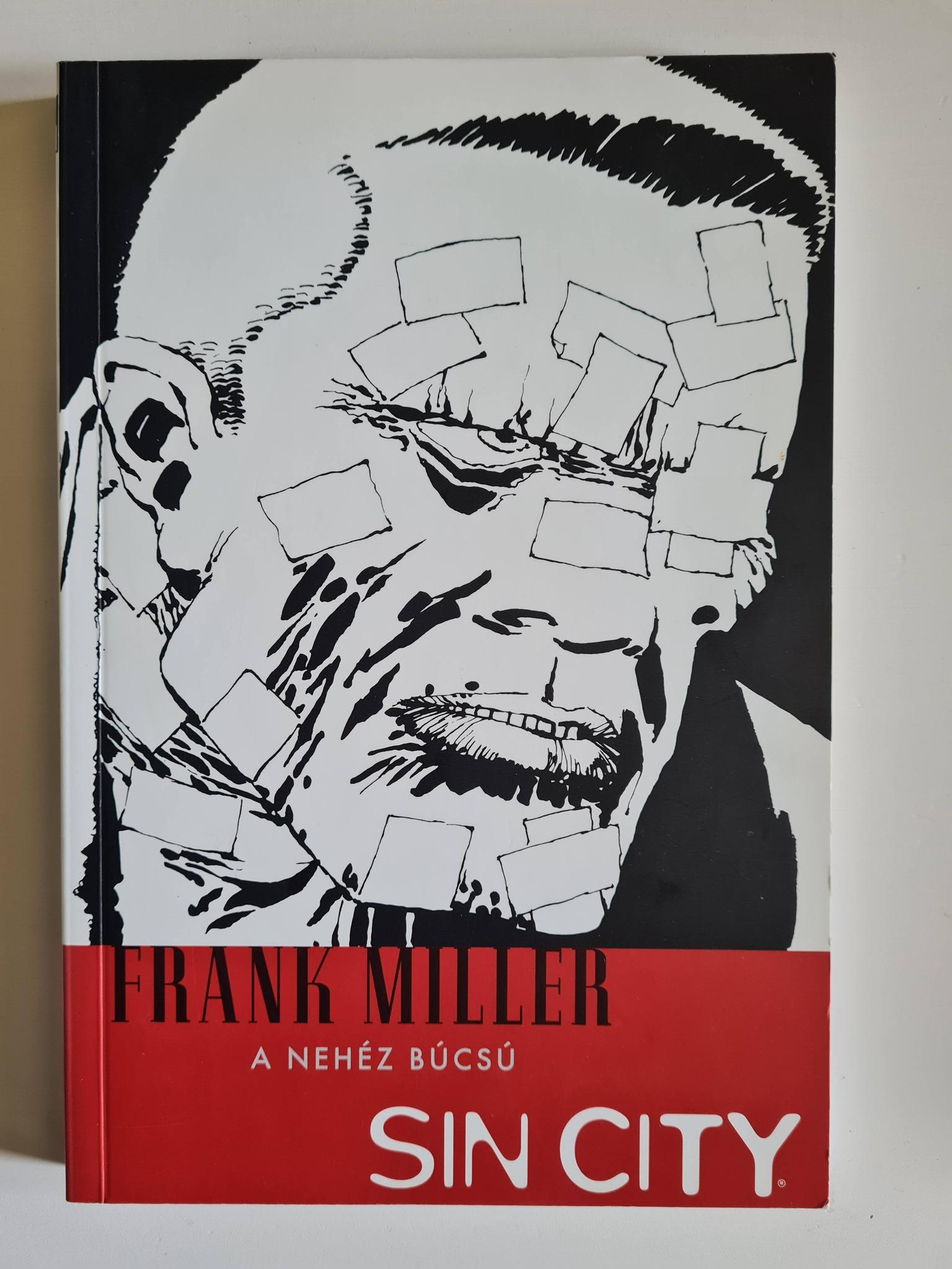comic: (60, 56, 833, 1206)
